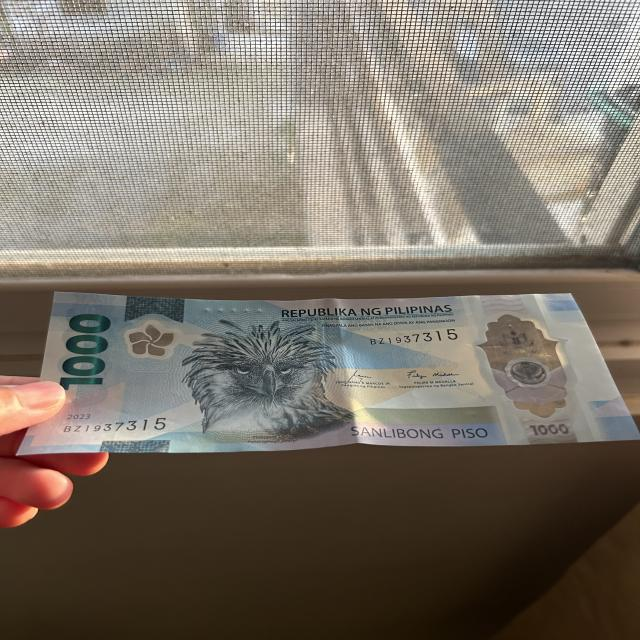clear_window: (480, 315, 574, 422)
eagle: (184, 306, 343, 443)
sampaguita: (123, 321, 176, 359)
